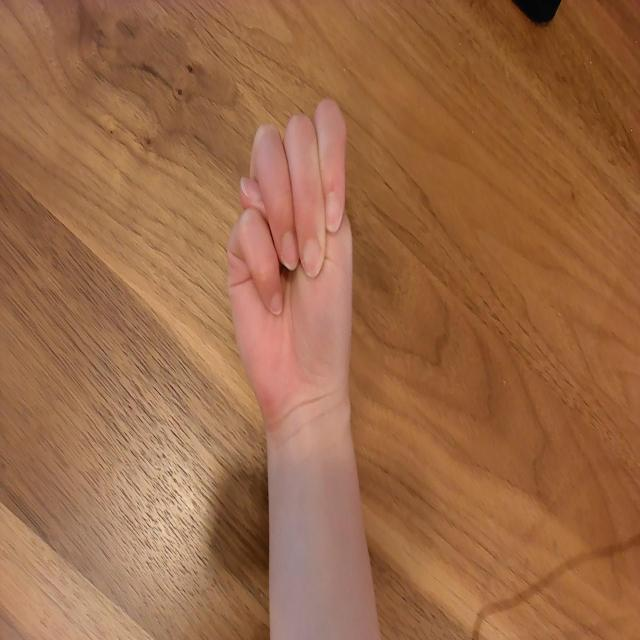M: (220, 94, 362, 428)
